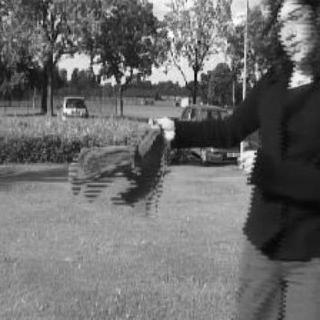other: (80, 117, 164, 216)
